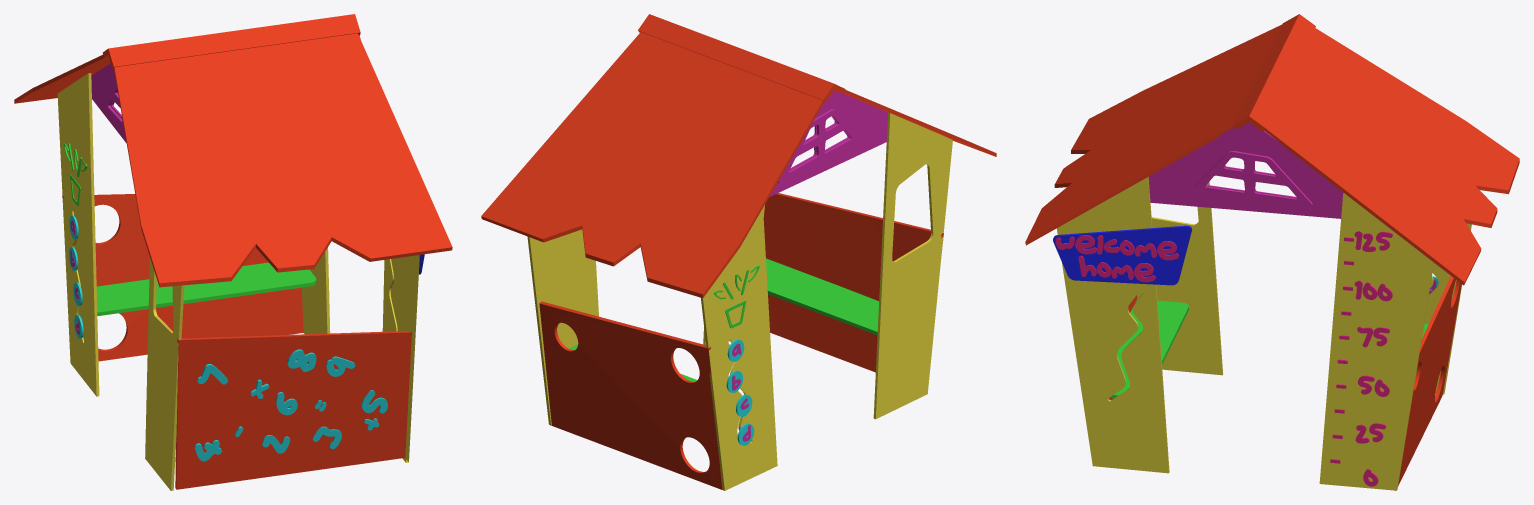
Rendered from casetta.fbx.
3 renders of one model, left to right at view 1: azimuth 30°, elevation 25°; view 2: azimuth 150°, elevation 25°; view 3: azimuth 270°, elevation 25°, orthographic. The views are drawn at different scales.
Parts seen in each view (by area): view 1: casetta; view 2: casetta; view 3: casetta.
Part boxes in pixels (left/top/right/bottom): casetta: left=14, top=14, right=452, bottom=490; casetta: left=481, top=14, right=996, bottom=490; casetta: left=1025, top=14, right=1519, bottom=490.
Bounding box in the file's own units: 727 × 774 × 955.
